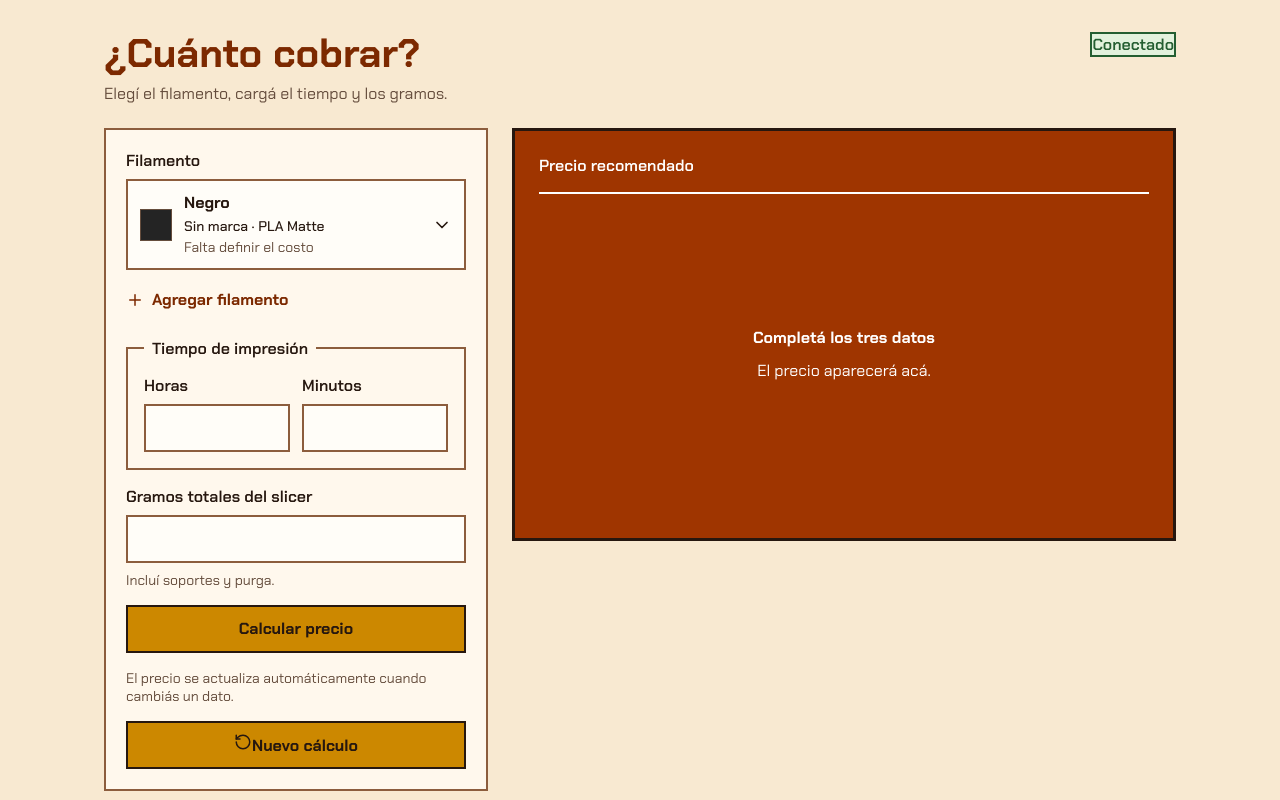
it: estados de la cotización rápida › muestra warnings y acceso a configuración cuando no hay breakdown
Expected: the button with aria-label "Filamento" shows "PLA Matte", [126,179,466,270]
In the number field named "Horas de impresión": (217, 428) [144,404,290,452], type "5"
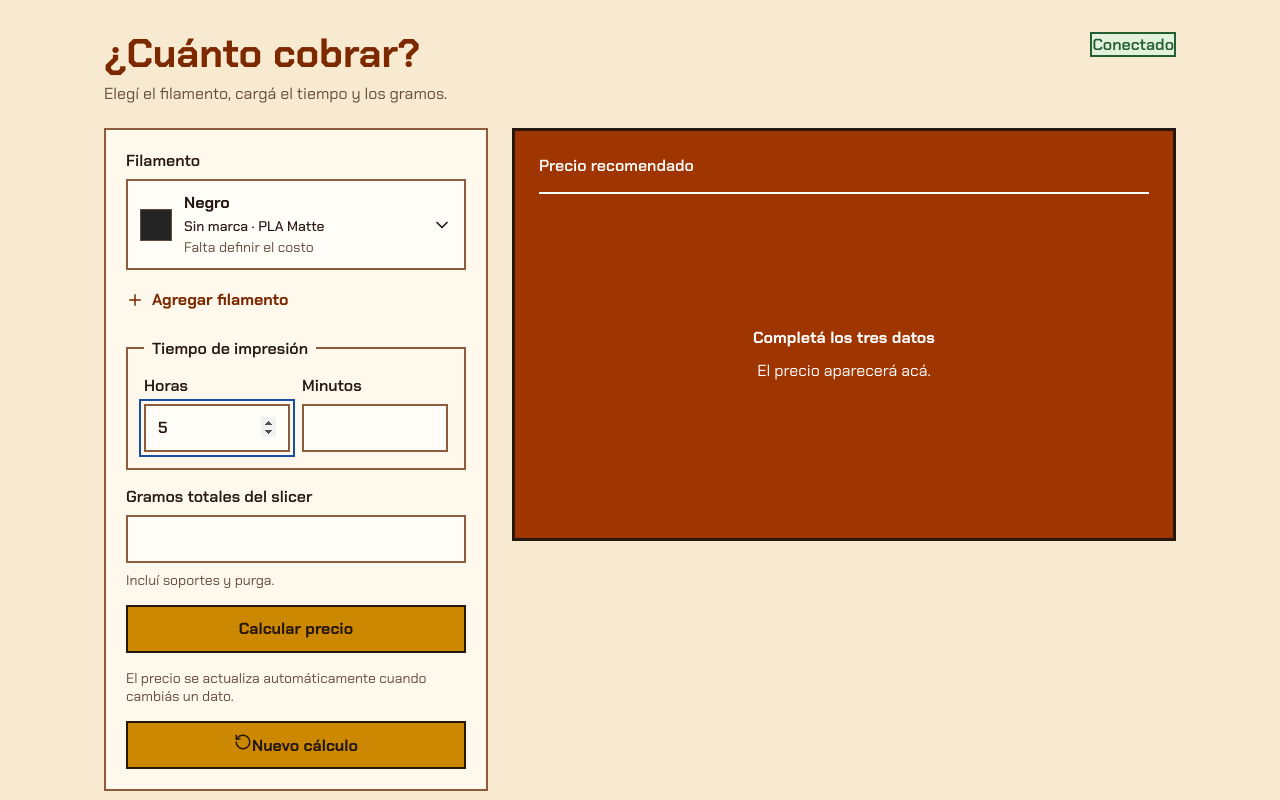
In the number field named "Minutos de impresión": (375, 428) [302,404,448,452], type "24"
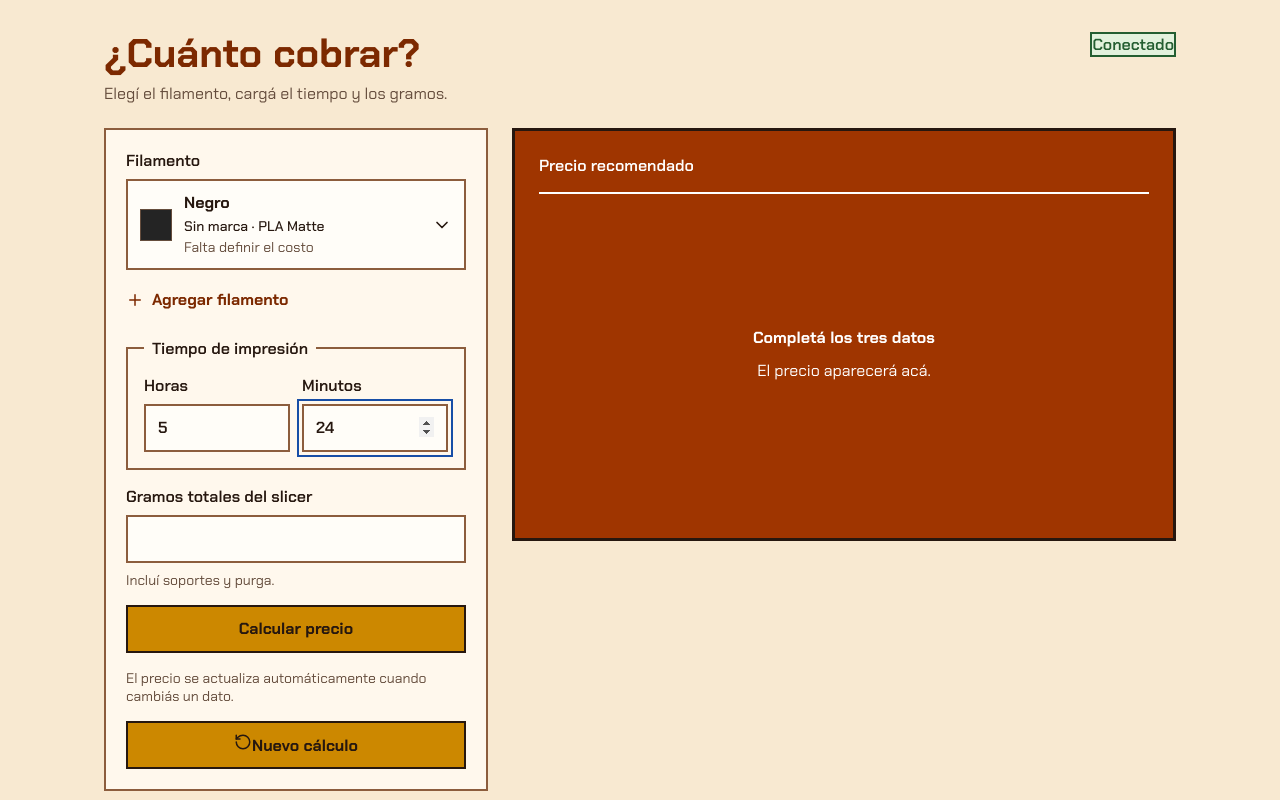
In the number field labelled "Gramos totales del slicer": (296, 539) [126,515,466,563], type "142"
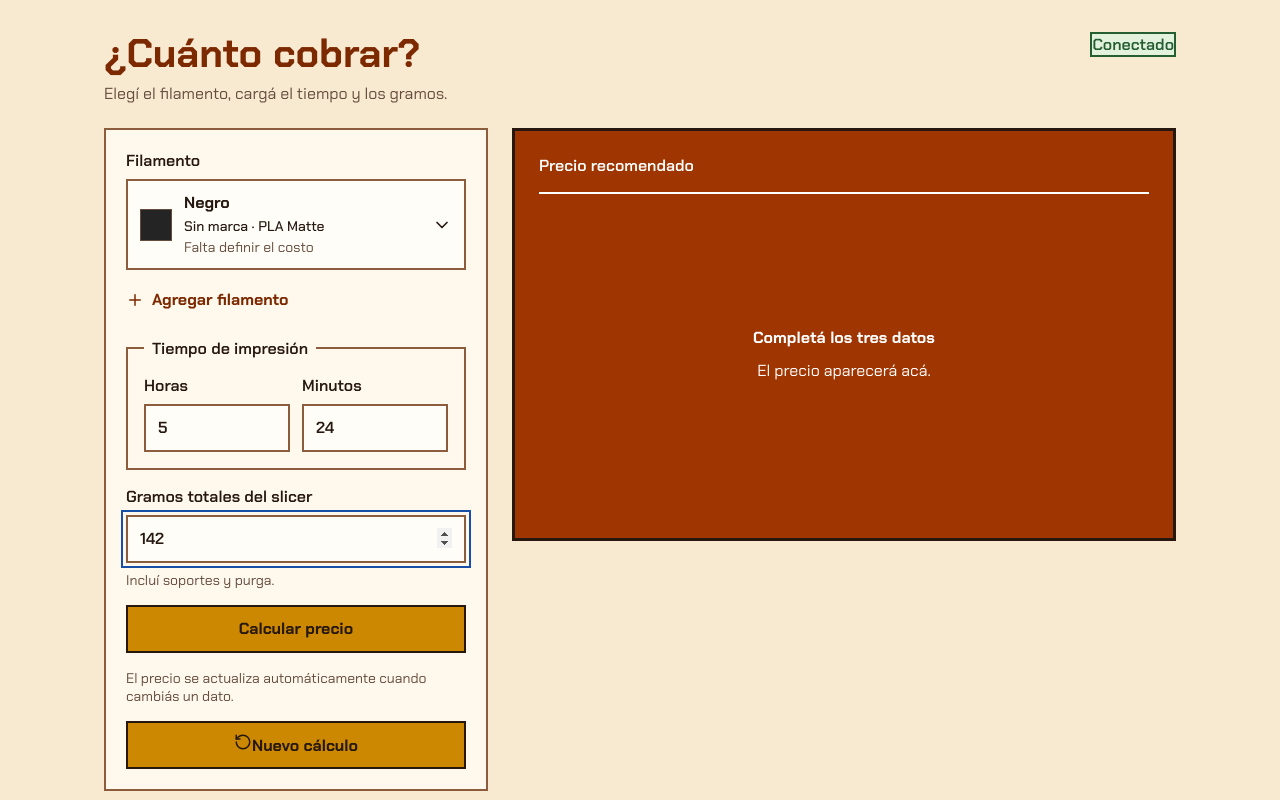
Click the button "Calcular precio": (296, 629) [126,605,466,653]
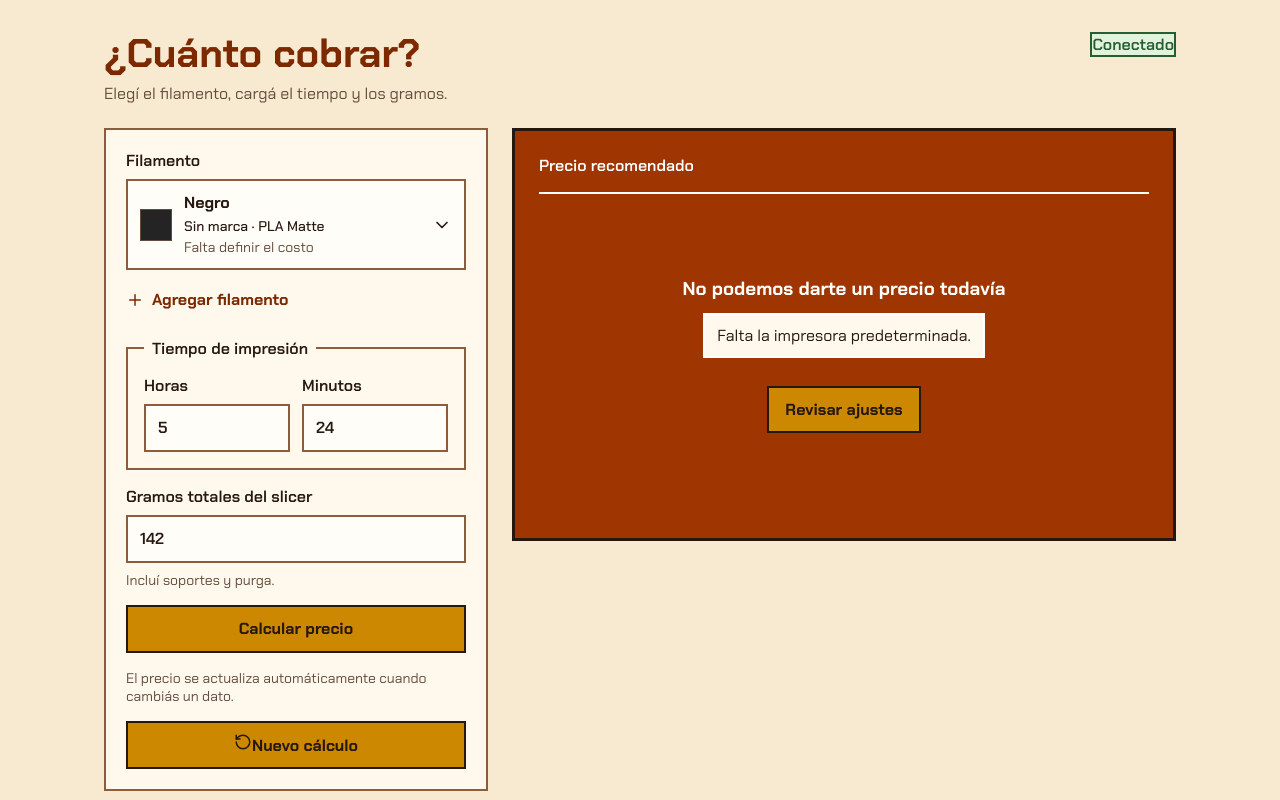
Expected: the heading "No podemos darte un precio todavía" is shown, [682,276,1006,301]
Expected: the text "Falta la impresora predeterminada." is shown, [717,325,971,346]
Expected: the button "Revisar ajustes" is shown, [767,386,921,433]
